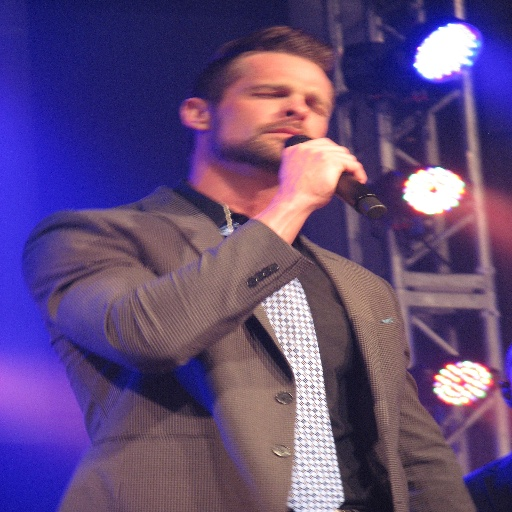hand: (266, 136, 374, 226)
